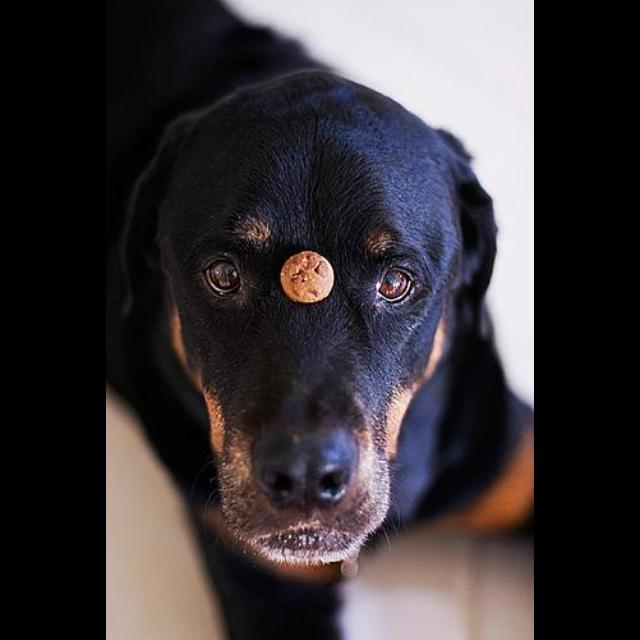rottweiler: (108, 2, 535, 639)
